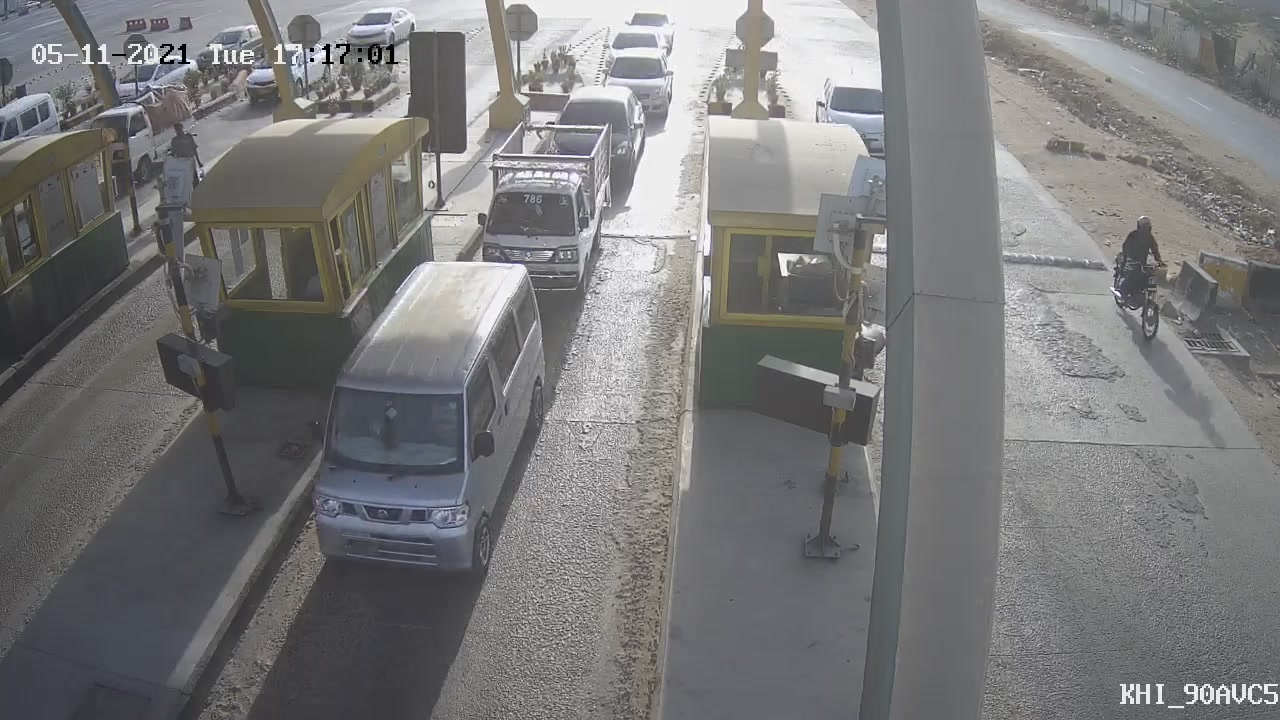F1: (305, 254, 577, 579), (470, 116, 620, 307)
